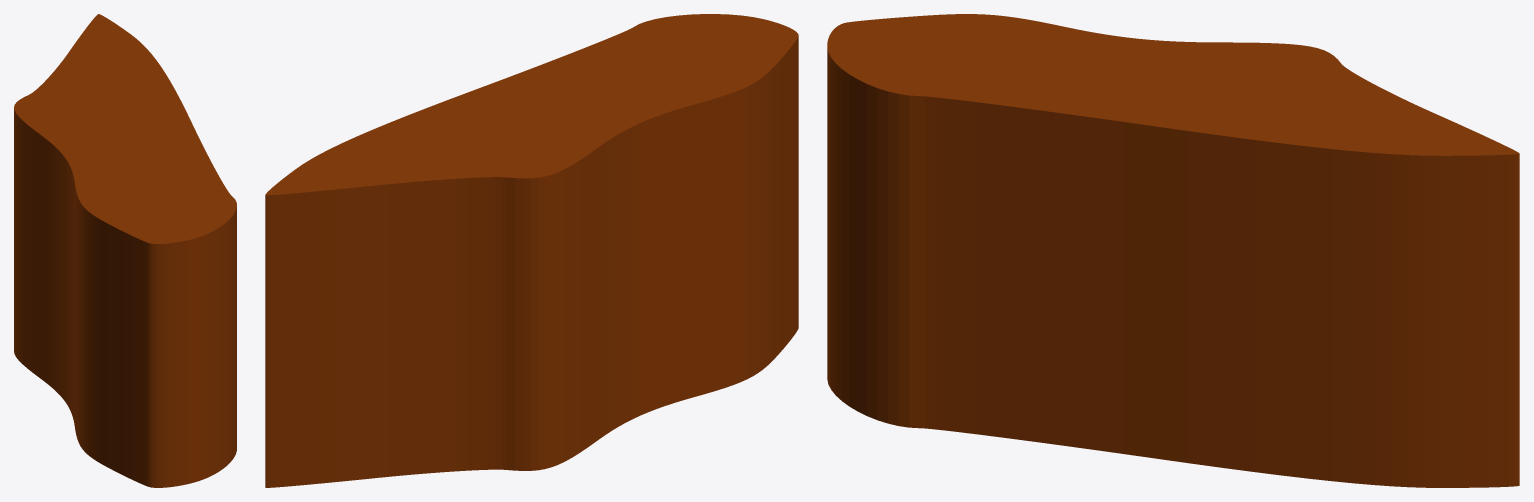
Rendered from Africa_04.obj.
3 renders of one model, left to right at view 1: azimuth 30°, elevation 25°; view 2: azimuth 150°, elevation 25°; view 3: azimuth 270°, elevation 25°, orthographic. The views are drawn at different scales.
Parts seen in each view (by area): view 1: Africa_04_path4228; view 2: Africa_04_path4228; view 3: Africa_04_path4228.
Boxes of the visible parts, bbox=[...] form: Africa_04_path4228: bbox=[14, 14, 236, 487]; Africa_04_path4228: bbox=[265, 14, 798, 487]; Africa_04_path4228: bbox=[827, 14, 1519, 487].
Size of the model in its own units: 0.0916 by 0.1 by 0.189.
